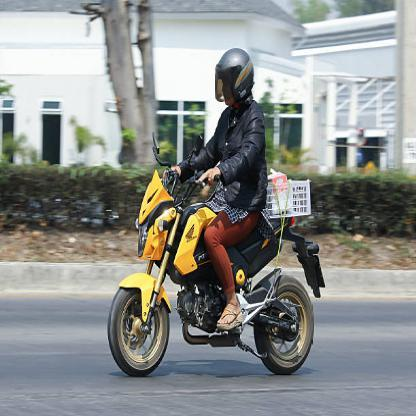Motorcycle: (103, 155, 318, 378)
